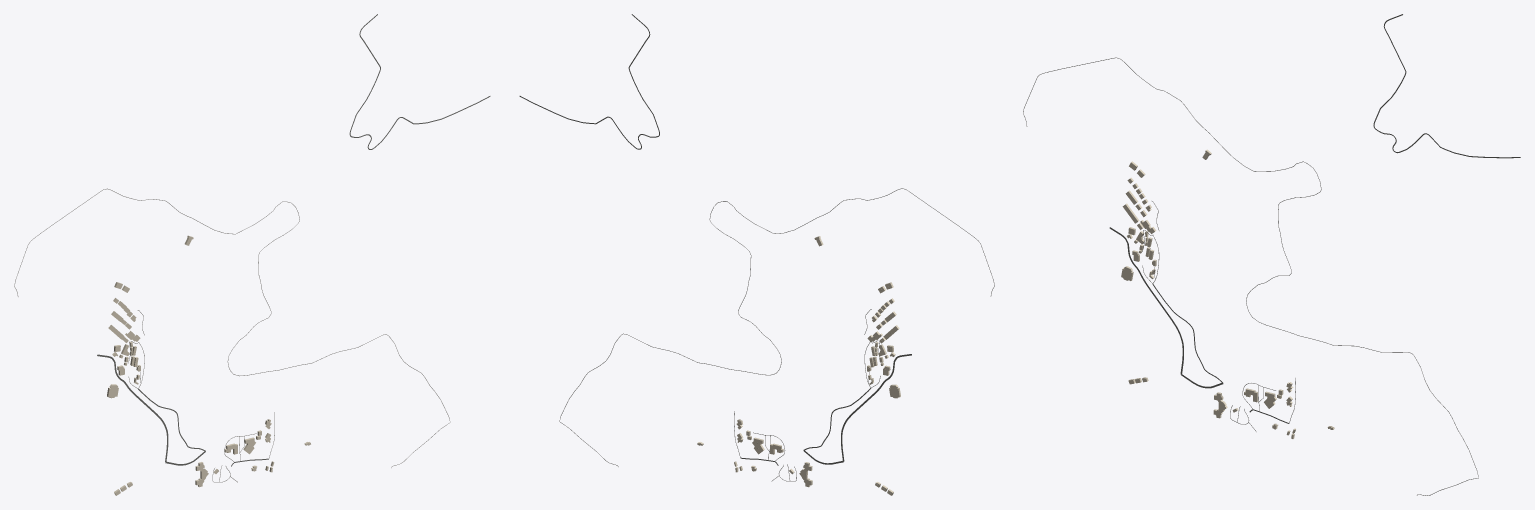
Rendered from historic-palestine-11_27_3531_3217.glb.
3 renders of one model, left to right at view 1: azimuth 30°, elevation 25°; view 2: azimuth 150°, elevation 25°; view 3: azimuth 330°, elevation 25°, orthographic. The views are drawn at different scales.
Parts seen in each view (by area): view 1: Road; view 2: Road; view 3: Road.
Part boxes in pixels (box(x1,y1,x2,y2)): Road: box(14, 188, 450, 467); Road: box(559, 188, 994, 466); Road: box(1023, 57, 1478, 495).
Size of the model in its own units: 1605 by 1475 by 8.7.
